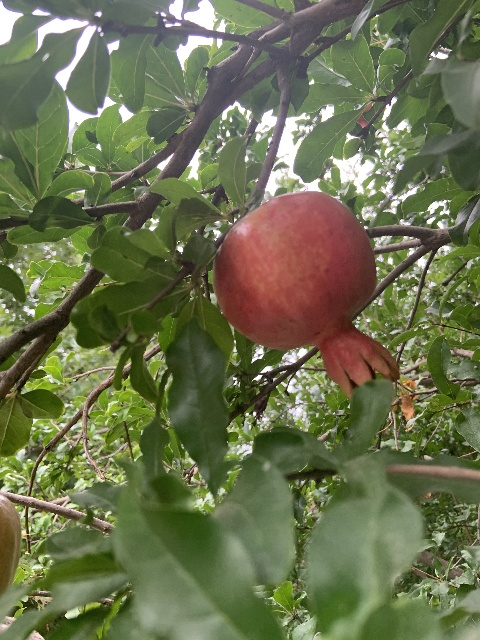ripe: (212, 191, 398, 397)
